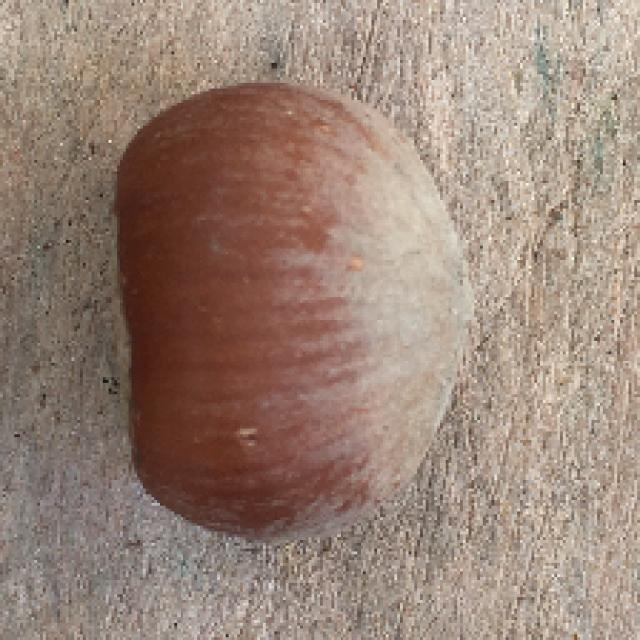QualityHazelnut: (107, 85, 474, 546)
